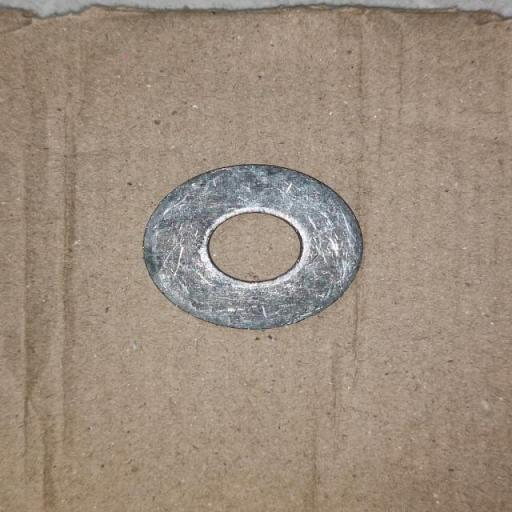Washer: (142, 163, 364, 330)
